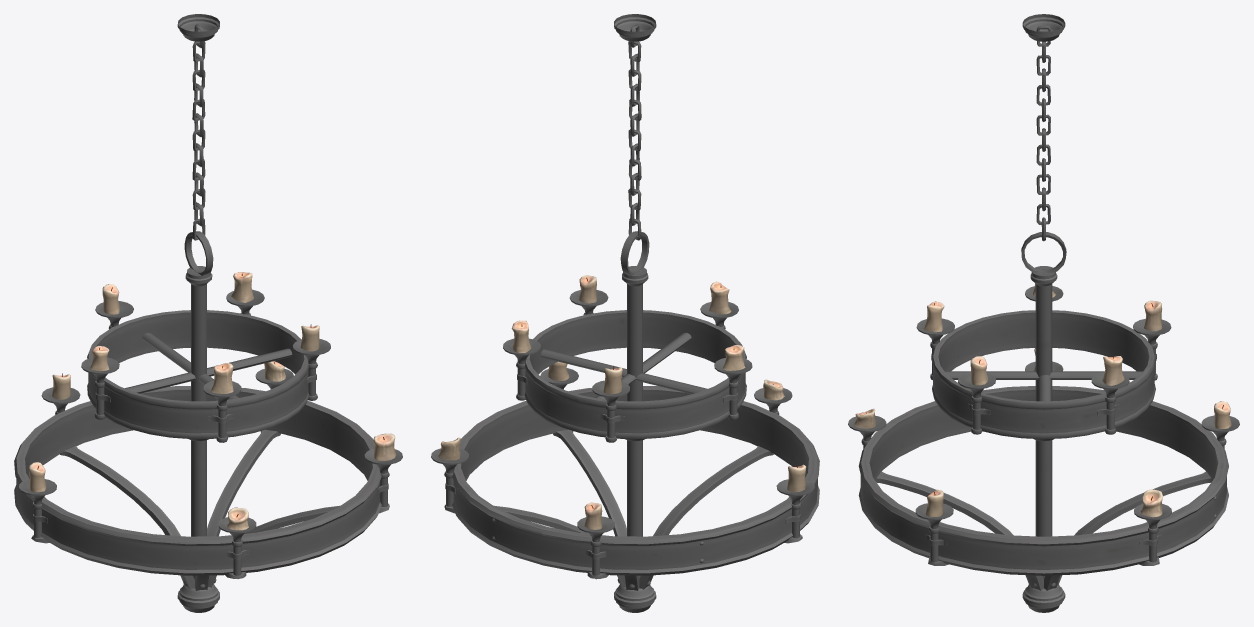
Rendered from SM_Chandelier_02.fbx.
3 views of the same model, side by side, from view 1: azimuth 30°, elevation 25°; view 2: azimuth 150°, elevation 25°; view 3: azimuth 270°, elevation 25° (orthographic).
Visible parts, largest first — view 1: SM_Chandelier_02_LOD0; view 2: SM_Chandelier_02_LOD0; view 3: SM_Chandelier_02_LOD0.
Part boxes in pixels (bbox=[...]): SM_Chandelier_02_LOD0: bbox=[14, 14, 402, 612]; SM_Chandelier_02_LOD0: bbox=[431, 14, 819, 612]; SM_Chandelier_02_LOD0: bbox=[848, 14, 1239, 612].
Size of what is drawn, in the model's own units: 1.45 by 2.4 by 1.46.
